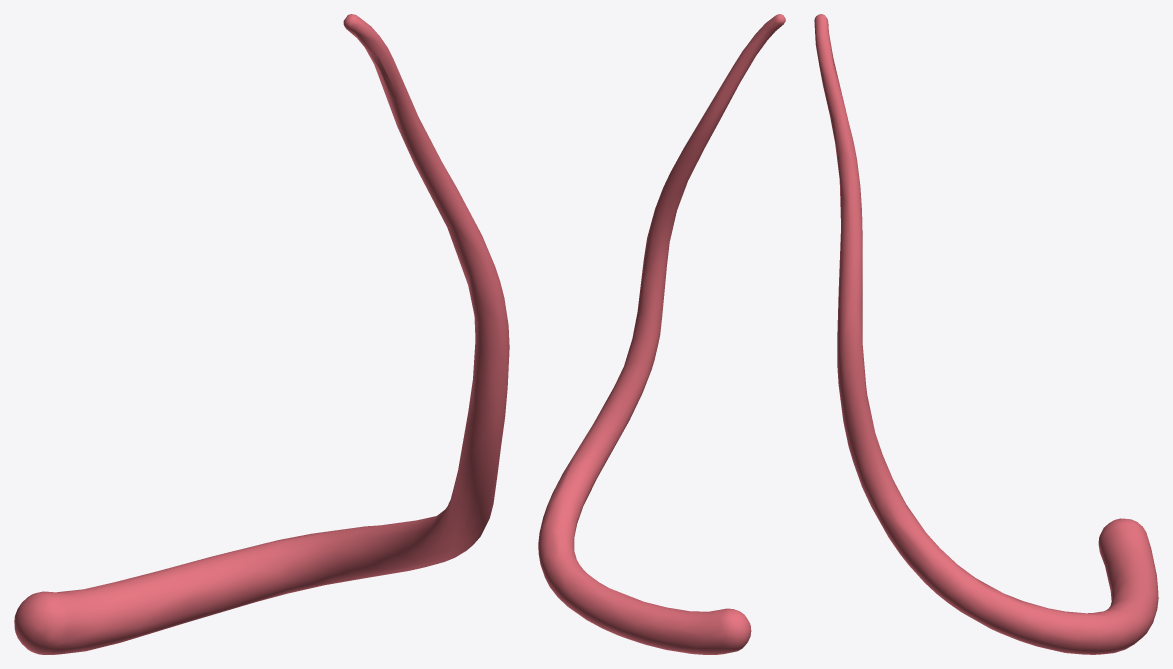
Rendered from fma50481_fj1669m.glb.
3 renders of one model, left to right at view 1: azimuth 30°, elevation 25°; view 2: azimuth 150°, elevation 25°; view 3: azimuth 270°, elevation 25°, orthographic. The views are drawn at different scales.
Visible parts, largest first — view 1: FMA50481_FJ1669M; view 2: FMA50481_FJ1669M; view 3: FMA50481_FJ1669M.
Part boxes in pixels (x1,y1,x2,y2): FMA50481_FJ1669M: (14,14,509,654); FMA50481_FJ1669M: (538,14,785,654); FMA50481_FJ1669M: (814,14,1158,654).
Bounding box in the file's own units: 0.0114 × 0.0233 × 0.012.
